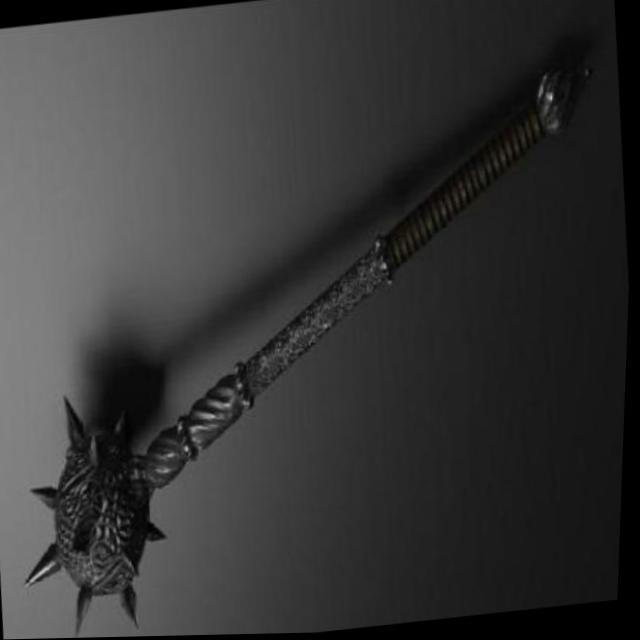weapon: (0, 56, 637, 640)
